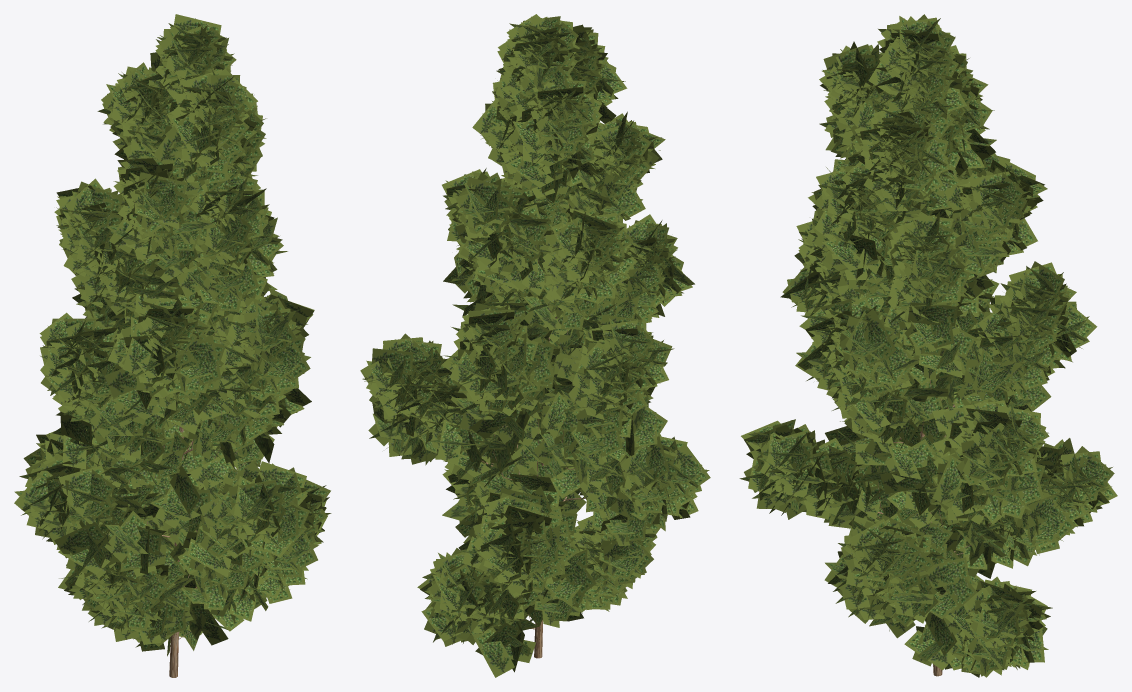
The model's file is arbol.obj.
The picture shows the model from 3 angles, left to right: view 1: azimuth 30°, elevation 25°; view 2: azimuth 150°, elevation 25°; view 3: azimuth 270°, elevation 25°; orthographic projection. The views are drawn at different scales.
Visible parts, largest first — view 1: leaves, tree; view 2: leaves, tree; view 3: leaves.
Boxes of the visible parts, box(x1,y1,x2,y2) form: leaves: box(14, 14, 331, 656); tree: box(79, 151, 279, 677); leaves: box(360, 14, 710, 677); tree: box(405, 200, 625, 658); leaves: box(739, 14, 1117, 677).
Bounding box in the file's own units: 5.32 × 10.62 × 5.53.
